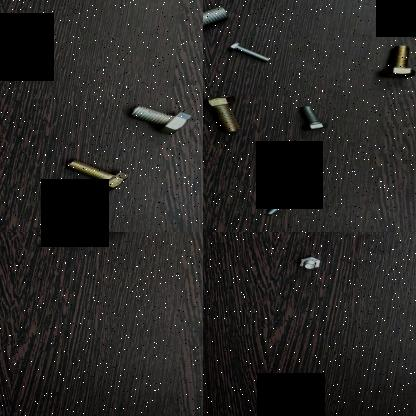Bolts: (126, 96, 194, 138), (62, 158, 134, 192), (203, 94, 248, 141), (374, 42, 416, 83), (224, 41, 272, 66), (261, 190, 307, 216), (292, 103, 327, 136), (203, 4, 230, 40), (63, 232, 141, 241), (292, 256, 326, 272)
